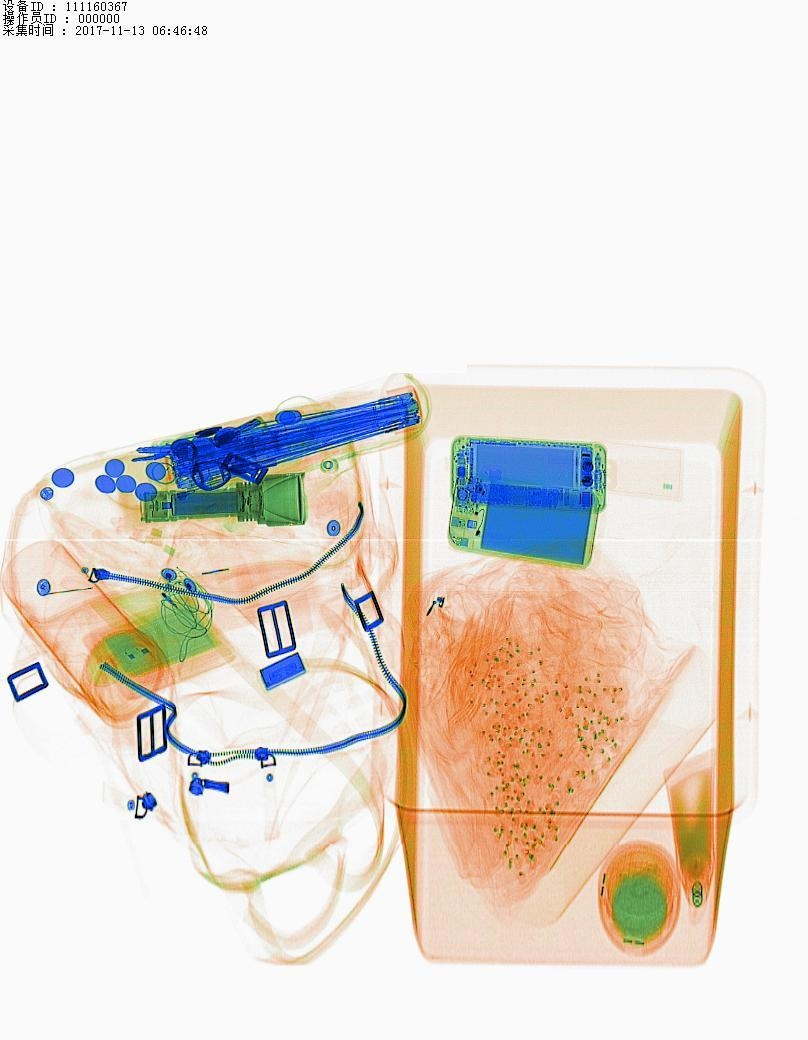coreless: (454, 475, 604, 567)
